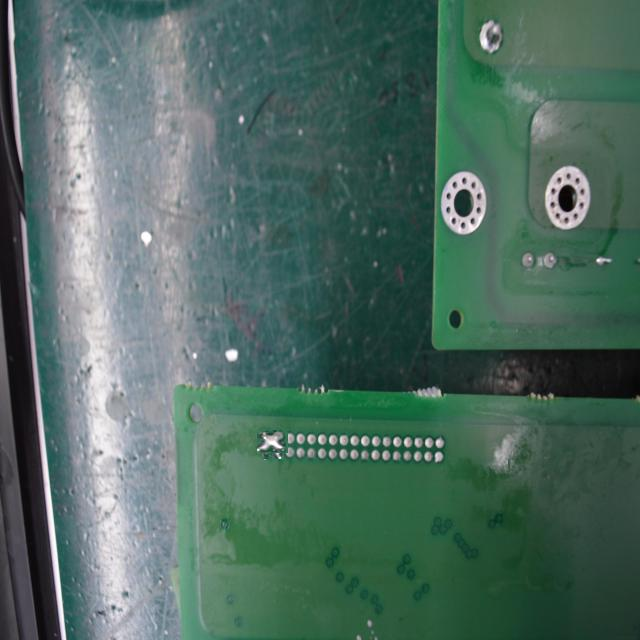Short_circuit: (259, 430, 286, 456)
